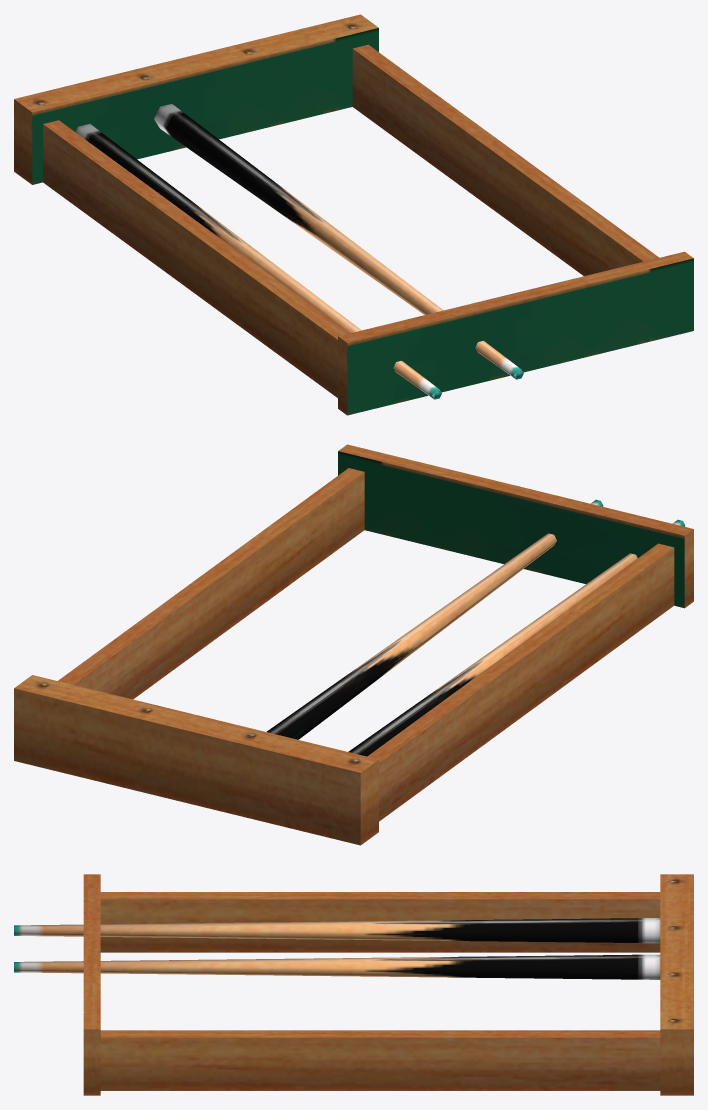
File: cuerack5.fbx
3 renders of one model, top to bottom at view 1: azimuth 30°, elevation 25°; view 2: azimuth 150°, elevation 25°; view 3: azimuth 270°, elevation 25°, orthographic. The views are drawn at different scales.
Visible parts, largest first — view 1: mesh_0; view 2: mesh_0; view 3: mesh_0.
Boxes of the visible parts, box(x1,y1,x2,y2) form: mesh_0: box(14, 14, 693, 415); mesh_0: box(14, 444, 693, 845); mesh_0: box(14, 874, 693, 1095).
Size of the model in its own units: 100 by 20 by 186.
1 material, 1 textured.
